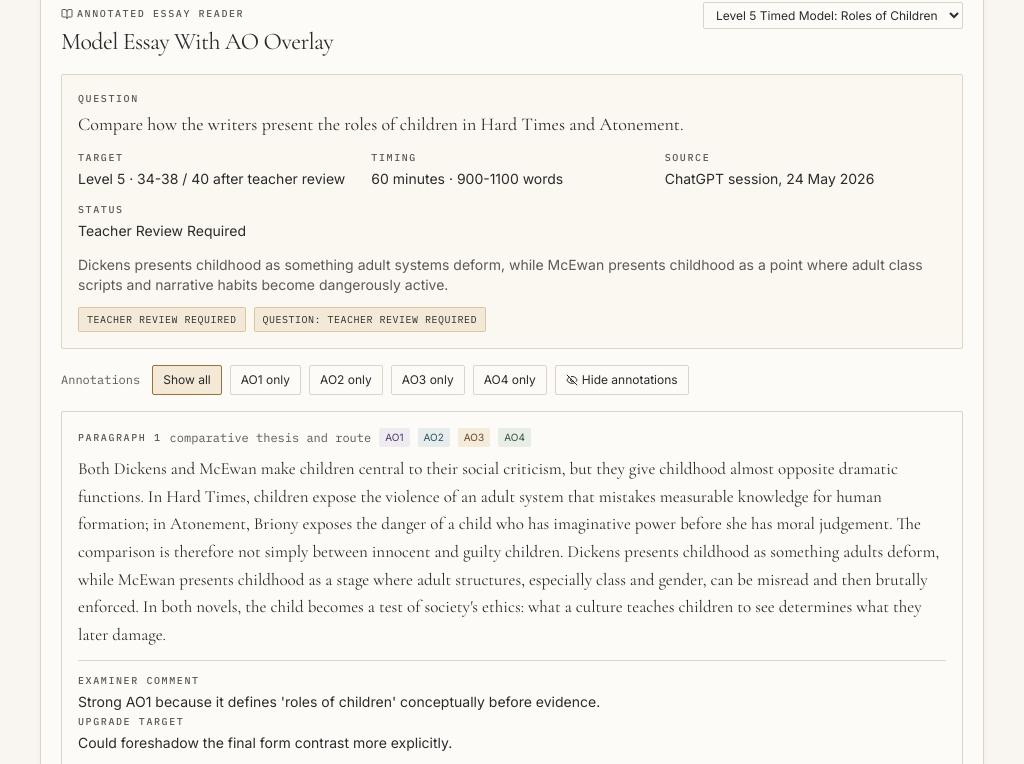
Scenario: AnnotatedEssayPack › toggles AO-specific annotations and hides them for self-testing
(page scrolled)
Click the button "AO2 only": (346, 380) [309,365,383,395]
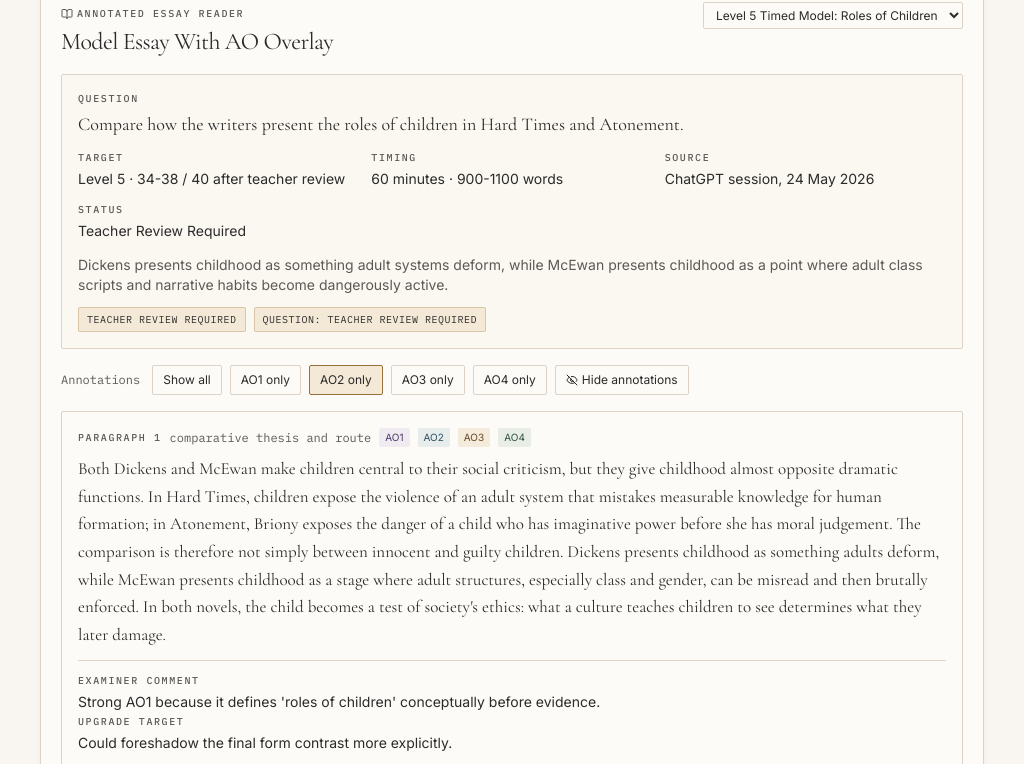
Click the button "Hide annotations": (622, 380) [555,365,689,395]
(page scrolled)
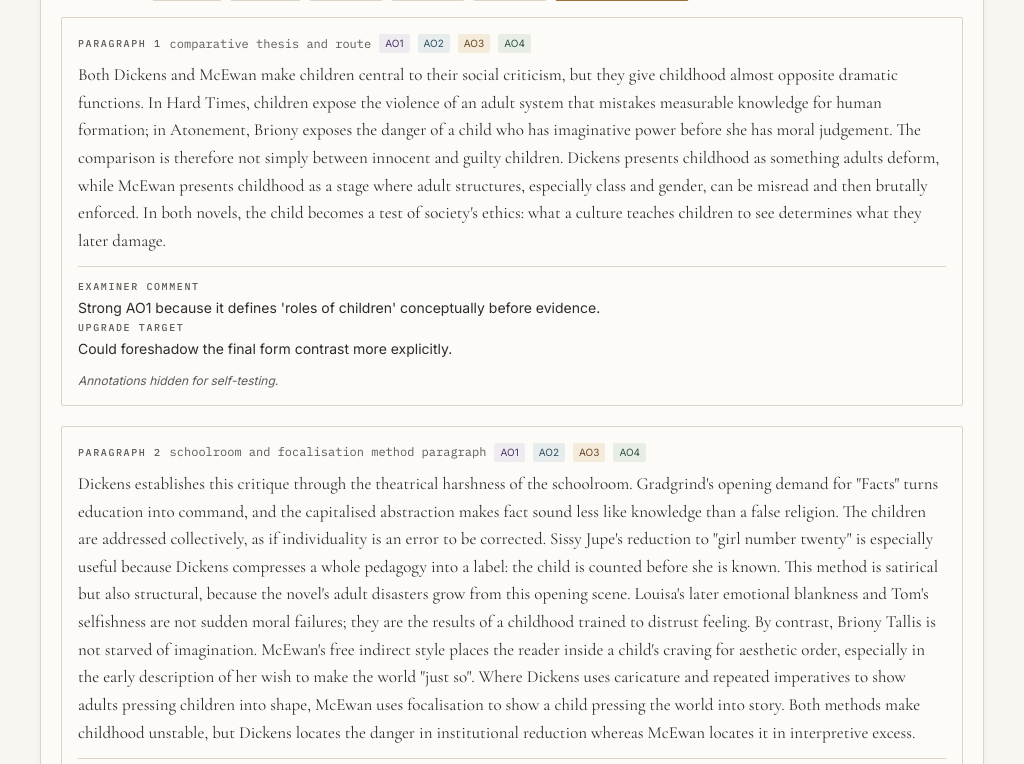
Now the text "Annotations hidden for self-testing." is shown, box [78,373,278,388]
